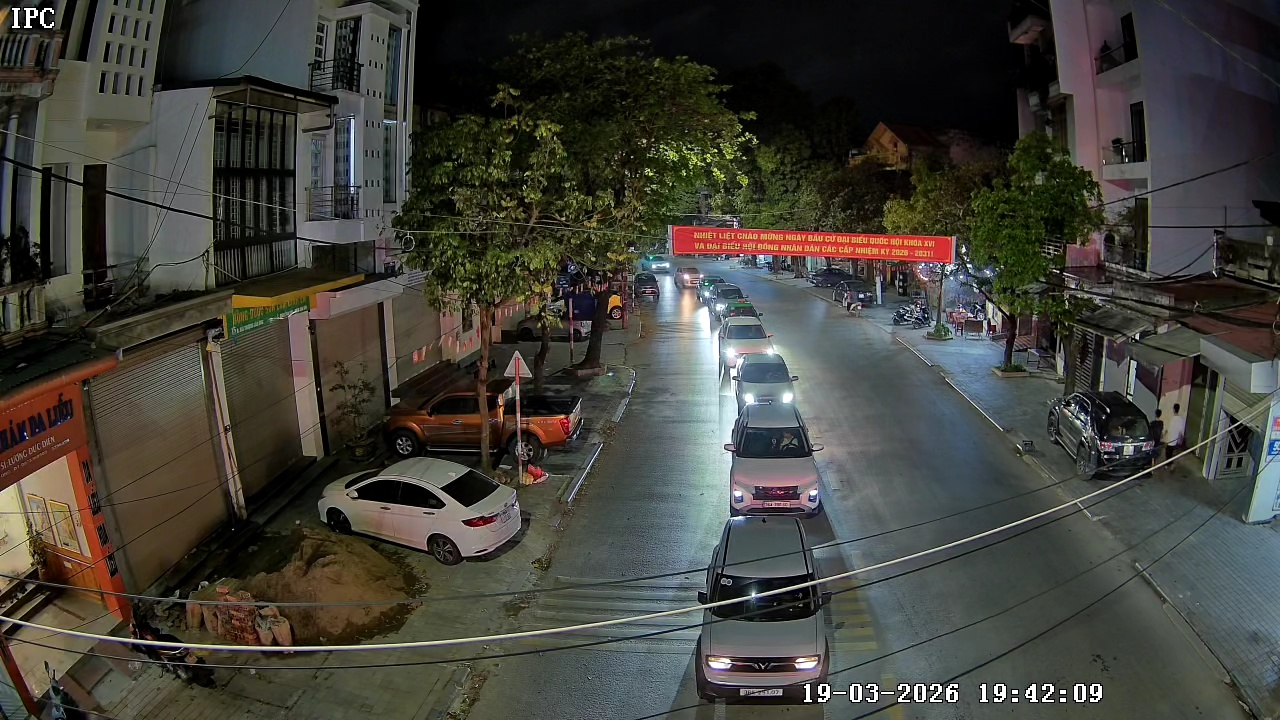car: (691, 513, 840, 712), (318, 454, 531, 561), (722, 401, 824, 516), (732, 350, 800, 416), (715, 314, 774, 378)
motorbike: (691, 513, 840, 714)
